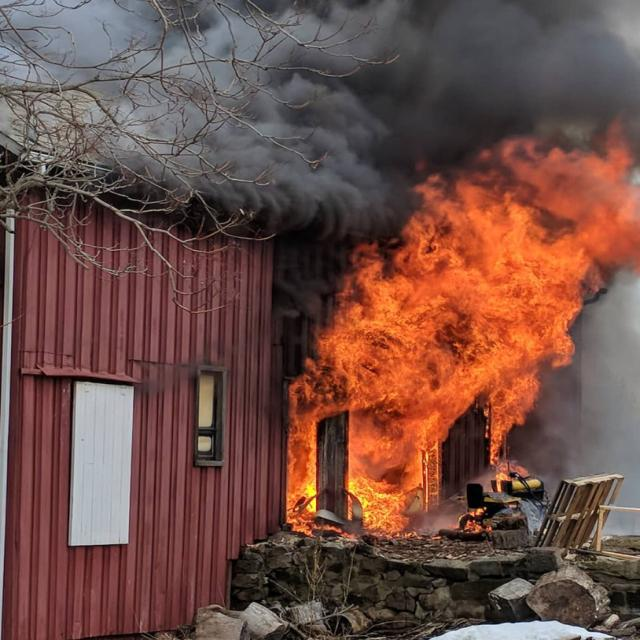fire: (285, 329, 542, 538), (413, 113, 640, 271), (349, 242, 615, 367)
